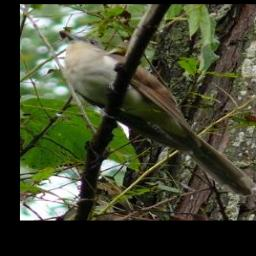Cuckoo: (59, 30, 256, 197)
